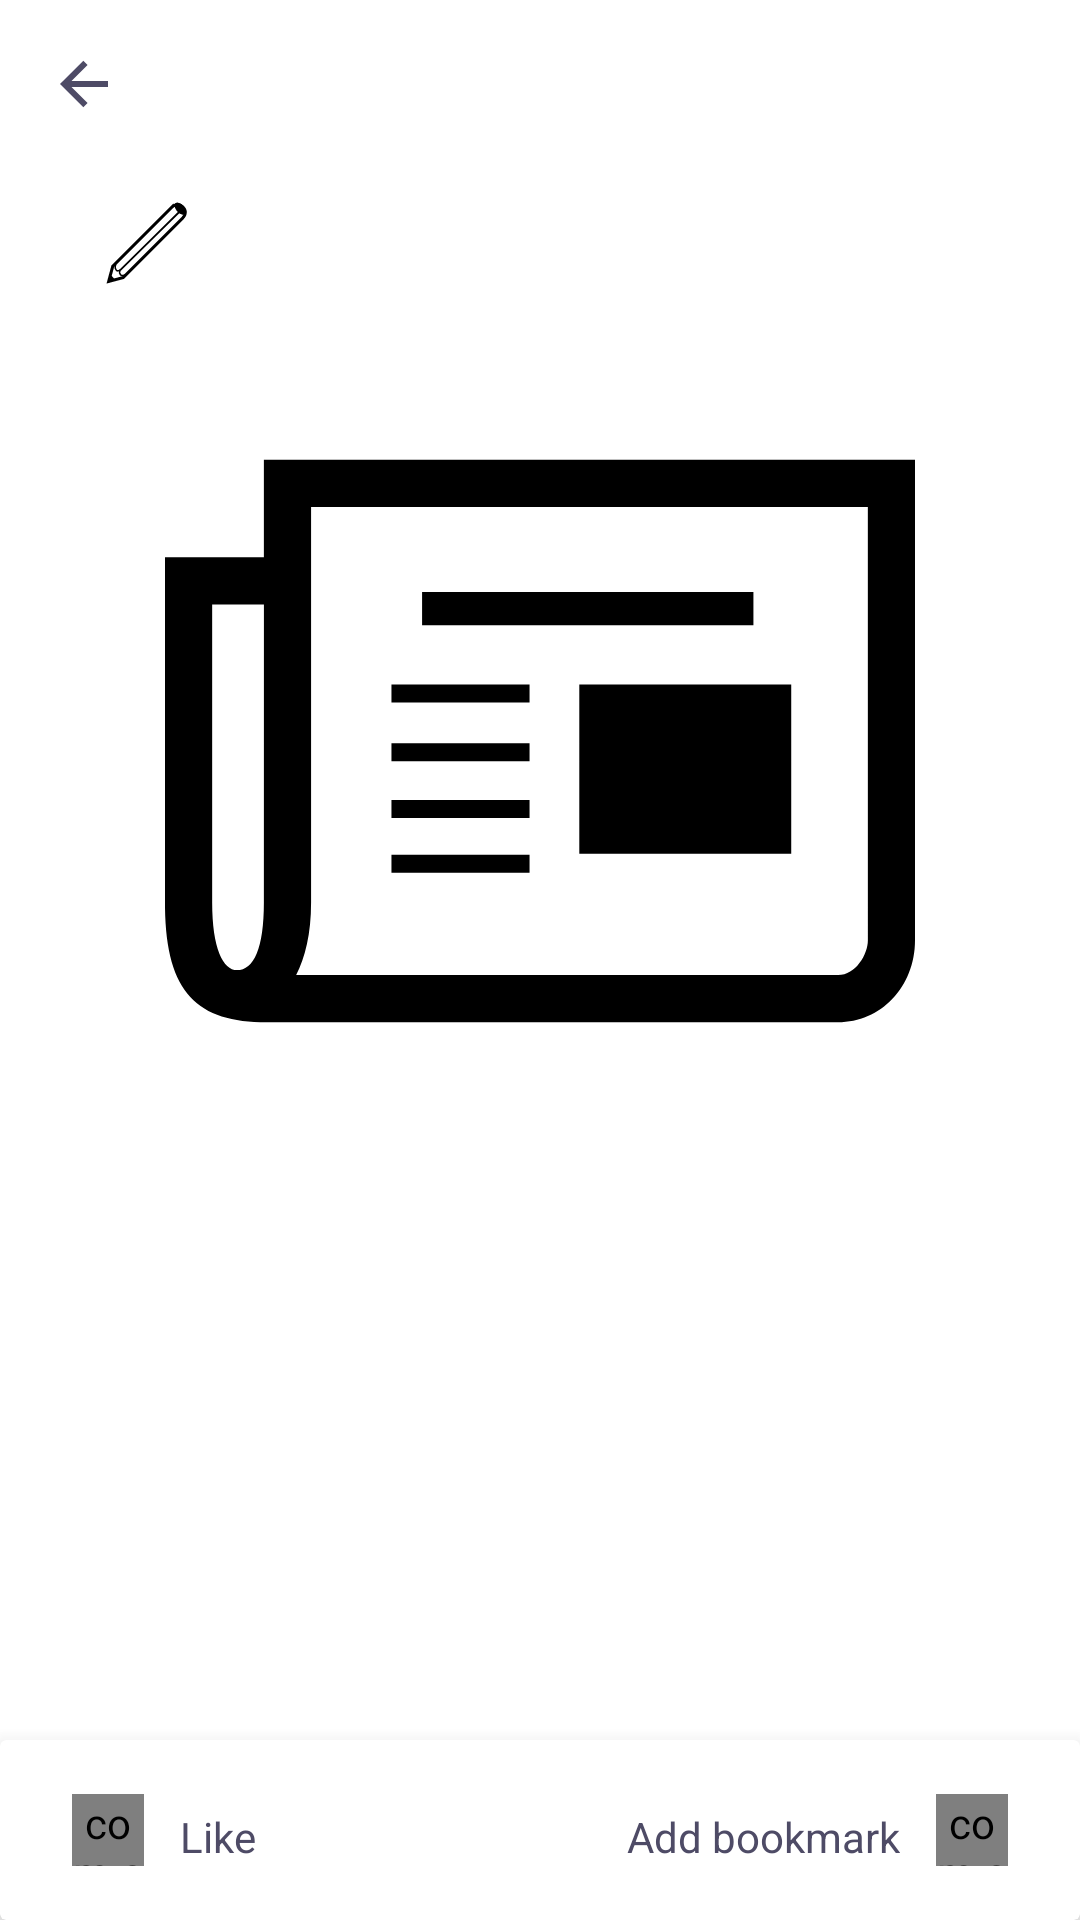

Locate icon controls on the screen. Image size 1080x1920, boxes as (x1, y1, x2, y2).
pencil news: (106, 202, 187, 284)
